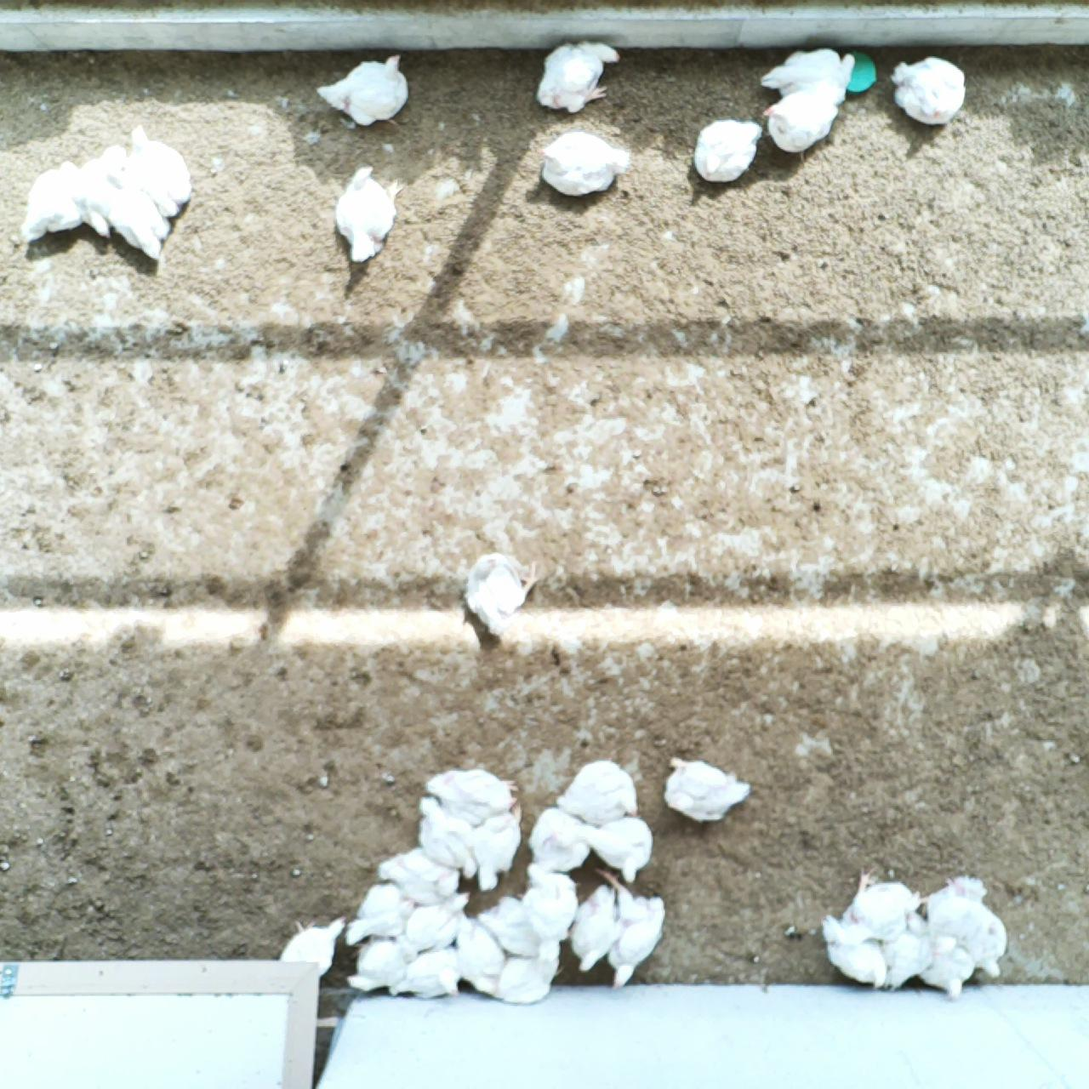chicken: (592, 863, 670, 988), (920, 877, 989, 995), (327, 161, 403, 267), (464, 546, 546, 641), (313, 51, 414, 128), (115, 124, 195, 220), (534, 128, 636, 199), (657, 751, 753, 826), (928, 889, 1007, 977), (470, 938, 564, 1010), (535, 37, 621, 114), (554, 758, 642, 832), (369, 844, 462, 914), (21, 157, 88, 249), (764, 80, 847, 154), (760, 44, 860, 105), (888, 54, 967, 131), (337, 877, 420, 949), (71, 136, 126, 243), (566, 879, 625, 977), (421, 767, 521, 824), (690, 111, 766, 185), (839, 870, 929, 932), (102, 177, 170, 259), (415, 791, 478, 879), (278, 907, 348, 985), (585, 812, 655, 889), (525, 808, 591, 889), (870, 913, 934, 995), (387, 938, 471, 996), (402, 893, 472, 961), (517, 858, 576, 938), (341, 938, 422, 996), (471, 809, 525, 895), (820, 916, 882, 989), (452, 917, 506, 993), (478, 898, 543, 958)
